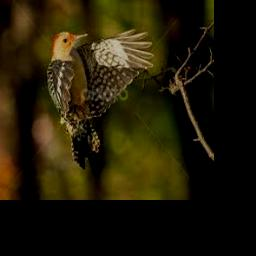Woodpecker: (46, 29, 154, 169)
